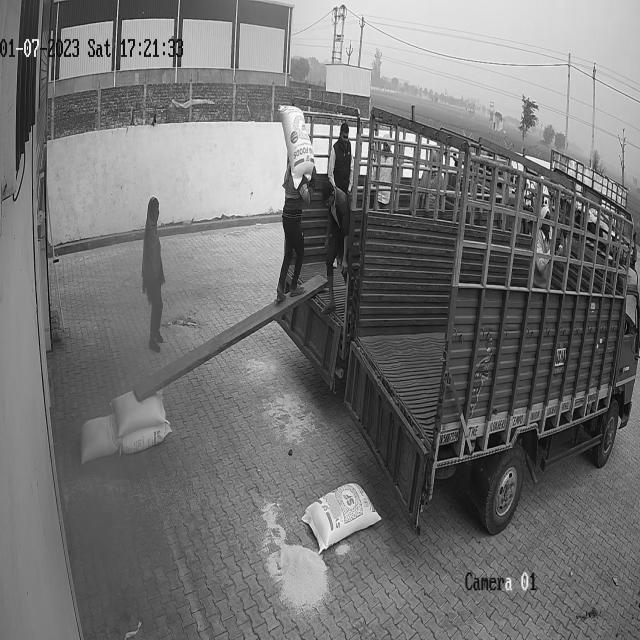sack: (301, 482, 381, 553), (278, 103, 315, 190), (110, 388, 166, 439), (79, 414, 119, 461), (122, 422, 171, 453)
